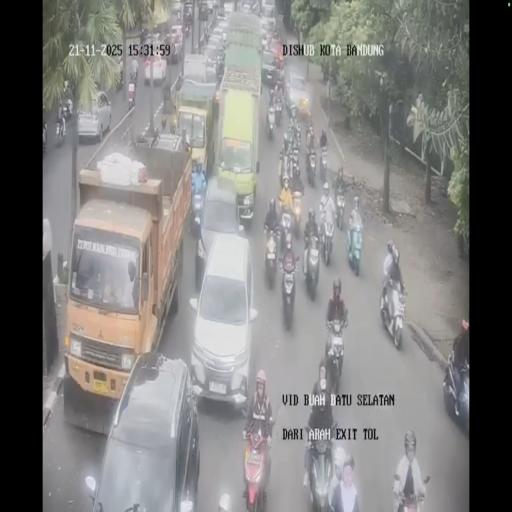car: (89, 353, 199, 508), (197, 174, 244, 267), (77, 88, 112, 142), (286, 71, 307, 115), (261, 48, 277, 84), (142, 30, 162, 57), (261, 14, 275, 44), (109, 52, 122, 84), (215, 17, 230, 42), (170, 24, 183, 48), (182, 0, 194, 23), (261, 2, 275, 18), (170, 0, 182, 17), (216, 2, 227, 19), (242, 0, 252, 14), (206, 0, 215, 14)
motorcycle: (240, 422, 272, 510), (304, 425, 336, 509), (380, 270, 406, 348), (278, 248, 300, 326), (324, 317, 348, 388), (302, 232, 322, 294), (262, 224, 280, 287), (346, 219, 363, 273), (319, 218, 336, 268), (279, 211, 295, 257), (290, 188, 304, 234), (334, 183, 346, 229), (306, 146, 318, 187), (278, 153, 290, 190), (319, 144, 329, 185), (60, 94, 74, 122), (266, 102, 276, 138), (55, 112, 65, 145), (200, 16, 212, 42), (215, 54, 225, 83), (127, 84, 136, 110), (129, 68, 138, 86), (42, 123, 47, 150), (184, 20, 190, 37)
truck: (173, 65, 217, 175)
